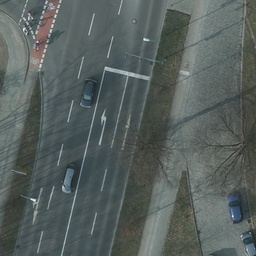car: (225, 191, 244, 222), (61, 162, 79, 194), (79, 79, 97, 109), (240, 229, 256, 256)
